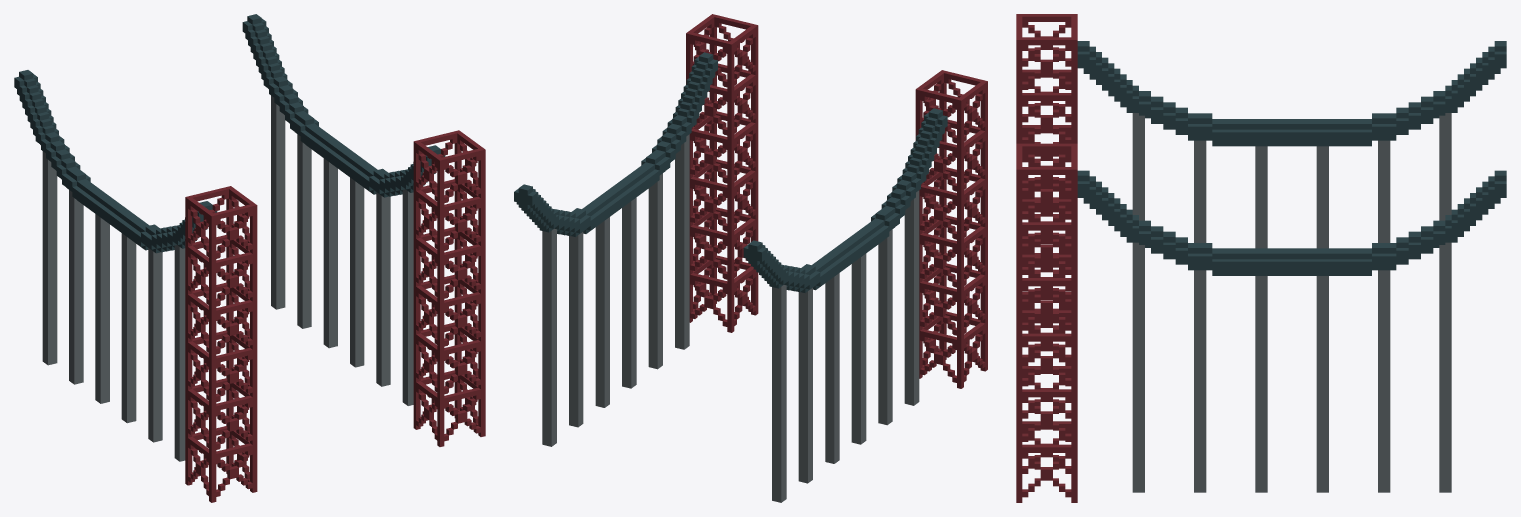
Rendered from bridge_suspension_tiled.obj.
The picture shows the model from 3 angles, left to right: view 1: azimuth 30°, elevation 25°; view 2: azimuth 150°, elevation 25°; view 3: azimuth 270°, elevation 25°; orthographic projection. The views are drawn at different scales.
Bounding box in the file's own units: 6 × 6 × 8.
1 material, 1 textured.
